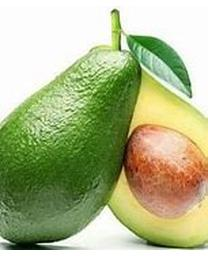avocado: (0, 44, 143, 246), (91, 46, 207, 248)
